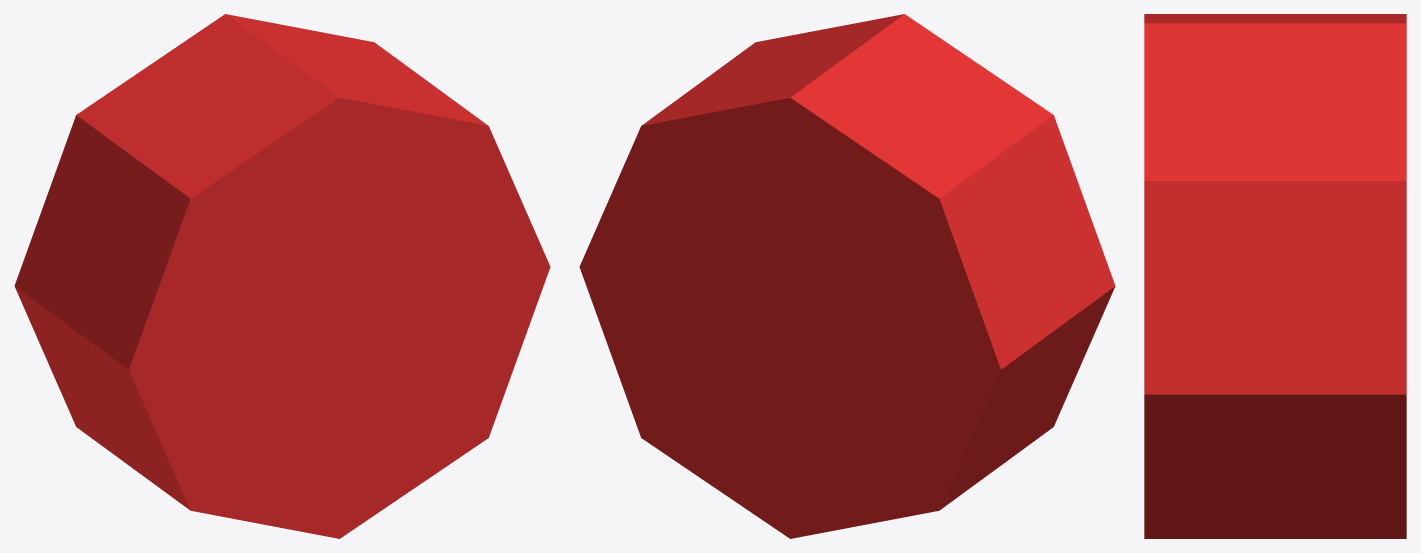
File: Button.fbx
3 renders of one model, left to right at view 1: azimuth 30°, elevation 25°; view 2: azimuth 150°, elevation 25°; view 3: azimuth 270°, elevation 25°, orthographic. The views are drawn at different scales.
Parts seen in each view (by area): view 1: Button; view 2: Button; view 3: Button.
Boxes of the visible parts, bbox=[...] form: Button: bbox=[14, 14, 550, 538]; Button: bbox=[579, 14, 1115, 538]; Button: bbox=[1144, 14, 1406, 538].
Bounding box in the file's own units: 158 × 158 × 74.41.
